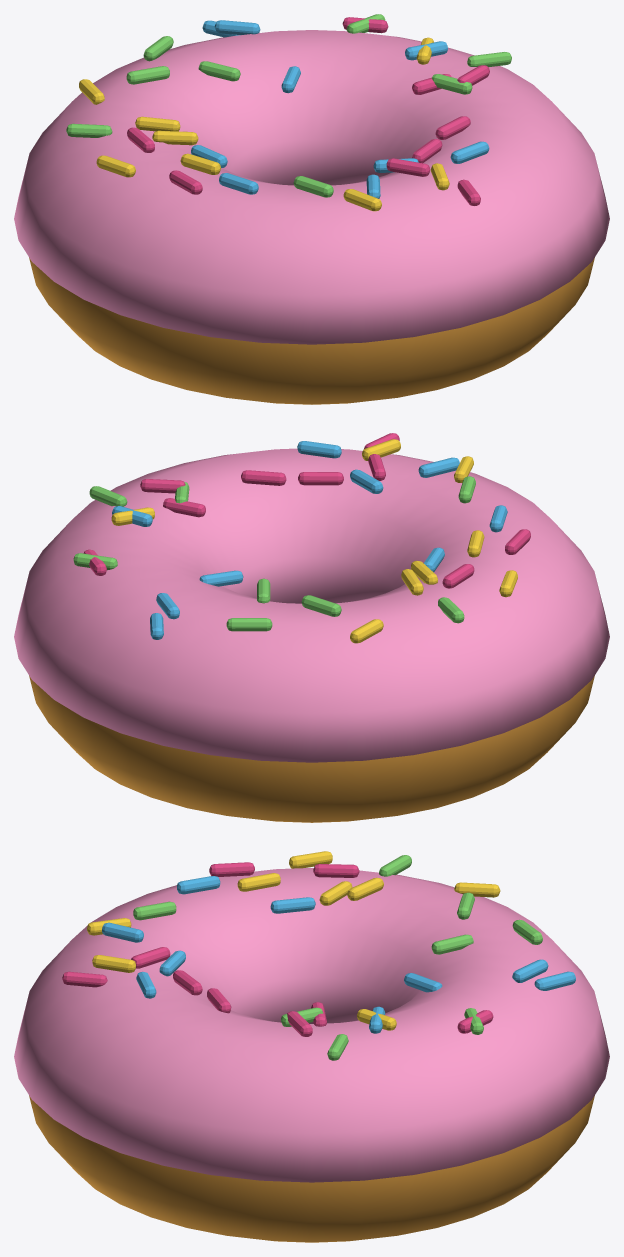
File: sprinkle-donut.glb
3 renders of one model, top to bottom at view 1: azimuth 30°, elevation 25°; view 2: azimuth 150°, elevation 25°; view 3: azimuth 270°, elevation 25°, orthographic.
Parts seen in each view (by area): view 1: edible_glaze, edible_donut, edible_sprinkle.020, edible_sprinkle.027, edible_sprinkle.022, edible_sprinkle.031, edible_sprinkle.005, edible_sprinkle.014, edible_sprinkle.019, edible_sprinkle.007, edible_sprinkle.023, edible_sprinkle.017 (+4 smaller); view 2: edible_glaze, edible_donut, edible_sprinkle.015, edible_sprinkle.028, edible_sprinkle.032, edible_sprinkle.013, edible_sprinkle.001, edible_sprinkle.027, edible_sprinkle.016, edible_sprinkle.024, edible_sprinkle.021; view 3: edible_glaze, edible_donut, edible_sprinkle.012, edible_sprinkle.033, edible_sprinkle.004, edible_sprinkle.023, edible_sprinkle.018, edible_sprinkle.030, edible_sprinkle.008, edible_sprinkle.017, edible_sprinkle.001, edible_sprinkle.006 (+3 smaller).
Part boxes in pixels (left/top/right/bottom): edible_glaze: left=14, top=30, right=609, bottom=344; edible_donut: left=29, top=257, right=594, bottom=404; edible_sprinkle.020: left=386, top=158, right=429, bottom=176; edible_sprinkle.027: left=126, top=66, right=169, bottom=84; edible_sprinkle.022: left=152, top=130, right=198, bottom=145; edible_sprinkle.031: left=66, top=123, right=112, bottom=137; edible_sprinkle.005: left=214, top=20, right=260, bottom=34; edible_sprinkle.014: left=135, top=116, right=180, bottom=131; edible_sprinkle.019: left=198, top=61, right=240, bottom=81; edible_sprinkle.007: left=467, top=52, right=511, bottom=67; edible_sprinkle.023: left=293, top=176, right=333, bottom=197; edible_sprinkle.017: left=219, top=173, right=258, bottom=194; edible_glaze: left=14, top=448, right=609, bottom=762; edible_donut: left=29, top=675, right=594, bottom=822; edible_sprinkle.015: left=226, top=618, right=272, bottom=631; edible_sprinkle.028: left=298, top=472, right=343, bottom=485; edible_sprinkle.032: left=241, top=470, right=286, bottom=485; edible_sprinkle.013: left=297, top=441, right=341, bottom=458; edible_sprinkle.001: left=418, top=457, right=459, bottom=477; edible_sprinkle.027: left=301, top=595, right=341, bottom=616; edible_sprinkle.016: left=140, top=479, right=185, bottom=493; edible_sprinkle.024: left=163, top=498, right=205, bottom=517; edible_sprinkle.021: left=199, top=570, right=243, bottom=586; edible_glaze: left=14, top=868, right=609, bottom=1182; edible_donut: left=29, top=1095, right=594, bottom=1242; edible_sprinkle.012: left=313, top=864, right=359, bottom=877; edible_sprinkle.033: left=270, top=897, right=315, bottom=913; edible_sprinkle.004: left=209, top=862, right=254, bottom=876; edible_sprinkle.023: left=133, top=901, right=176, bottom=920; edible_sprinkle.018: left=237, top=873, right=280, bottom=891; edible_sprinkle.030: left=92, top=955, right=135, bottom=972; edible_sprinkle.008: left=62, top=971, right=107, bottom=987; edible_sprinkle.017: left=177, top=876, right=220, bottom=894; edible_sprinkle.001: left=102, top=922, right=143, bottom=942; edible_sprinkle.006: left=289, top=851, right=332, bottom=868.
Bounding box in the file's own units: 0.1168 × 0.046 × 0.1168.
